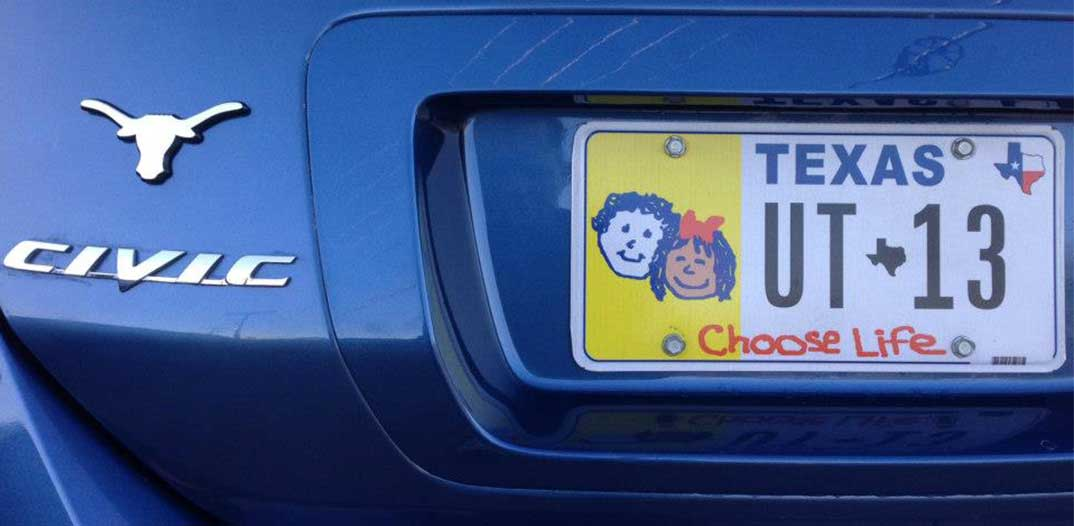license plate: (566, 118, 1068, 376)
